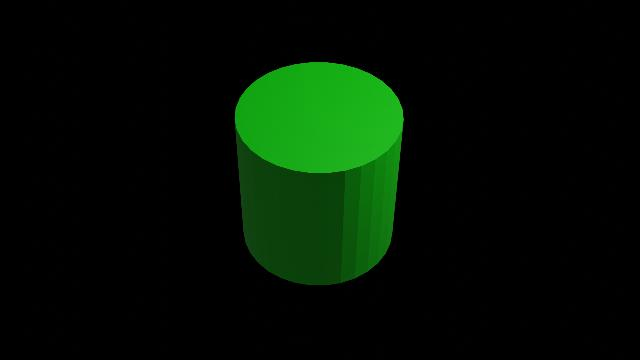Cylinder: (212, 59, 426, 298)
